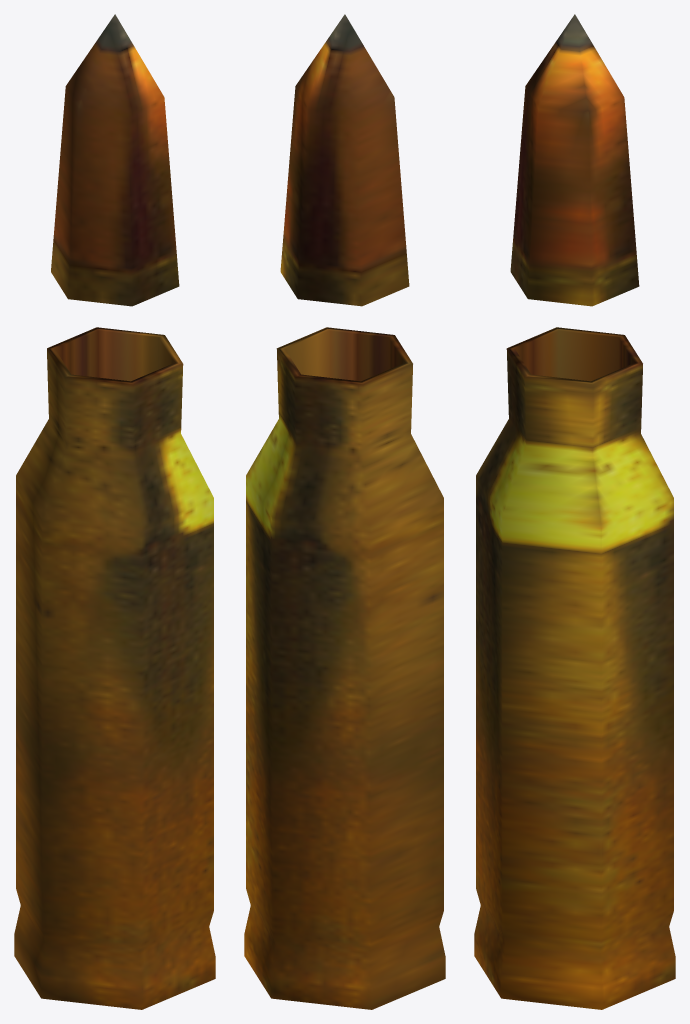
File: RifleBulletSeperate.glb
3 views of the same model, side by side, from view 1: azimuth 30°, elevation 25°; view 2: azimuth 150°, elevation 25°; view 3: azimuth 270°, elevation 25° (orthographic).
Parts seen in each view (by area): view 1: Casing, Bullet; view 2: Casing, Bullet; view 3: Casing, Bullet.
Boxes of the visible parts, x1,y1,x2,y2 form: Casing: (14,327,215,1009); Bullet: (51,14,179,306); Casing: (244,327,445,1009); Bullet: (280,14,409,306); Casing: (474,327,675,1009); Bullet: (510,14,639,306).
Bounding box in the file's own units: 0.528 × 2.76 × 0.528.
1 material, 1 textured.
